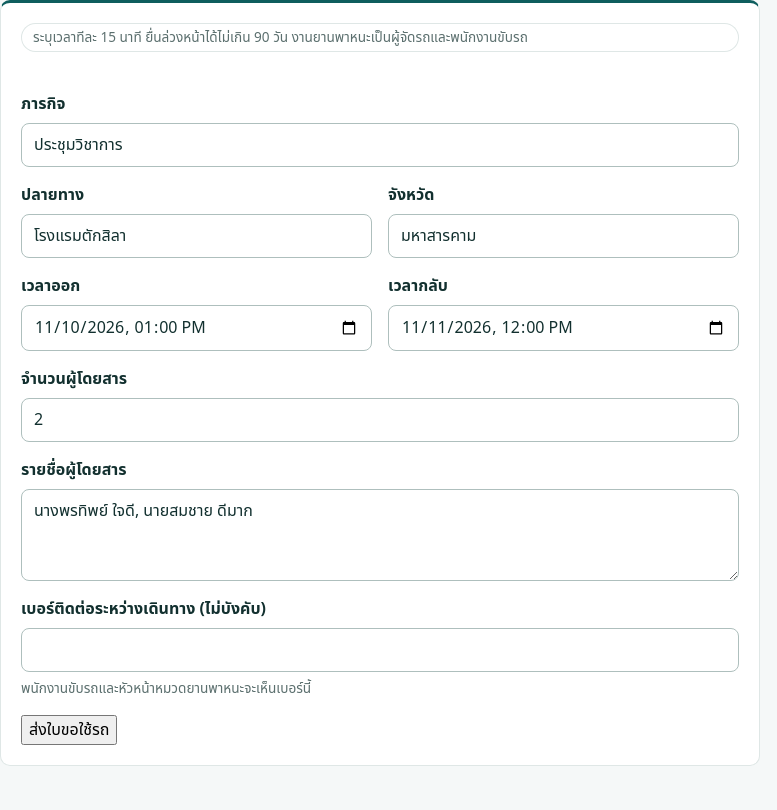
FleetForm › shows the Thai text for a rule the server refused
Click the button "ส่งใบขอใช้รถ" at (69, 730), box [21,715,118,745]
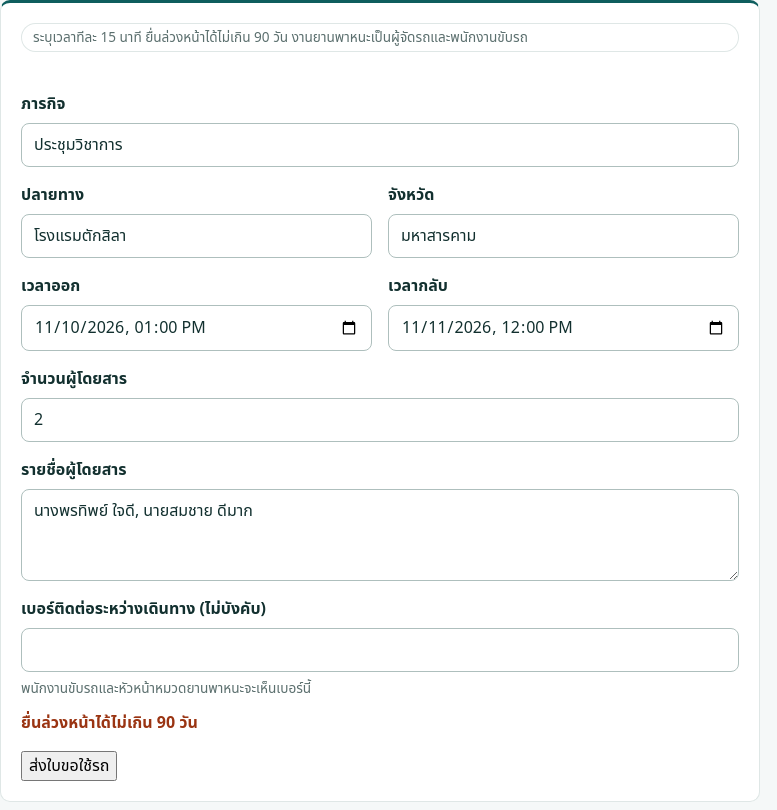
Check: the message reads "ยื่นล่วงหน้าได้ไม่เกิน 90 วัน", box [21,711,198,735]
